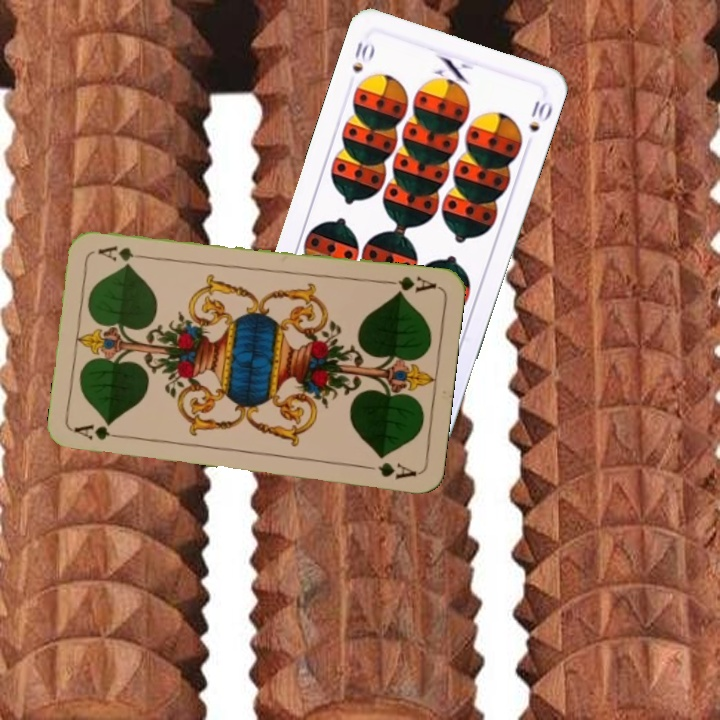GA: (380, 272, 439, 297), (71, 420, 130, 443)
S10: (348, 38, 378, 75)
